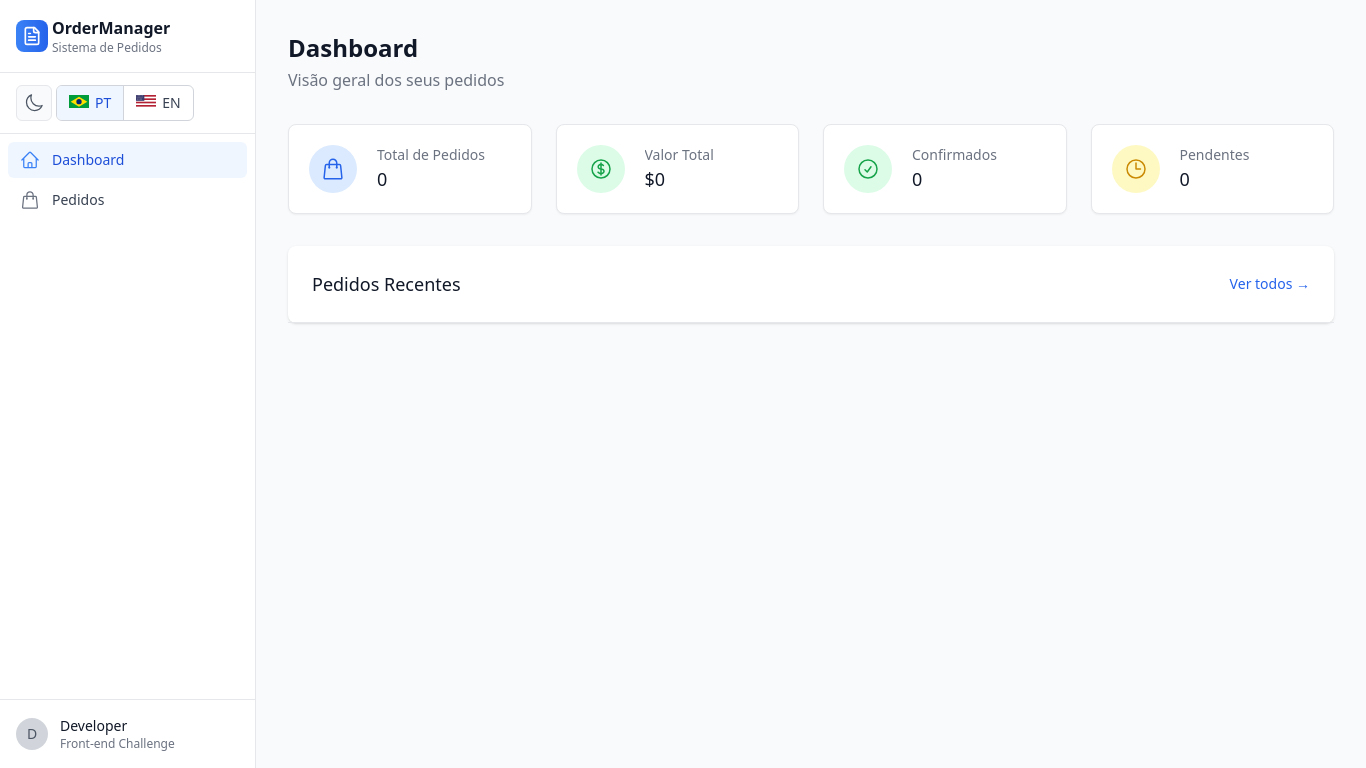
Scenario: Smoke E2E › carrega a home e navega para Pedidos
expect the heading "OrderManager" is shown: met, box [52,16,170,40]
Click the link "Ver todos →" at (1270, 284), box [1230,274,1310,294]
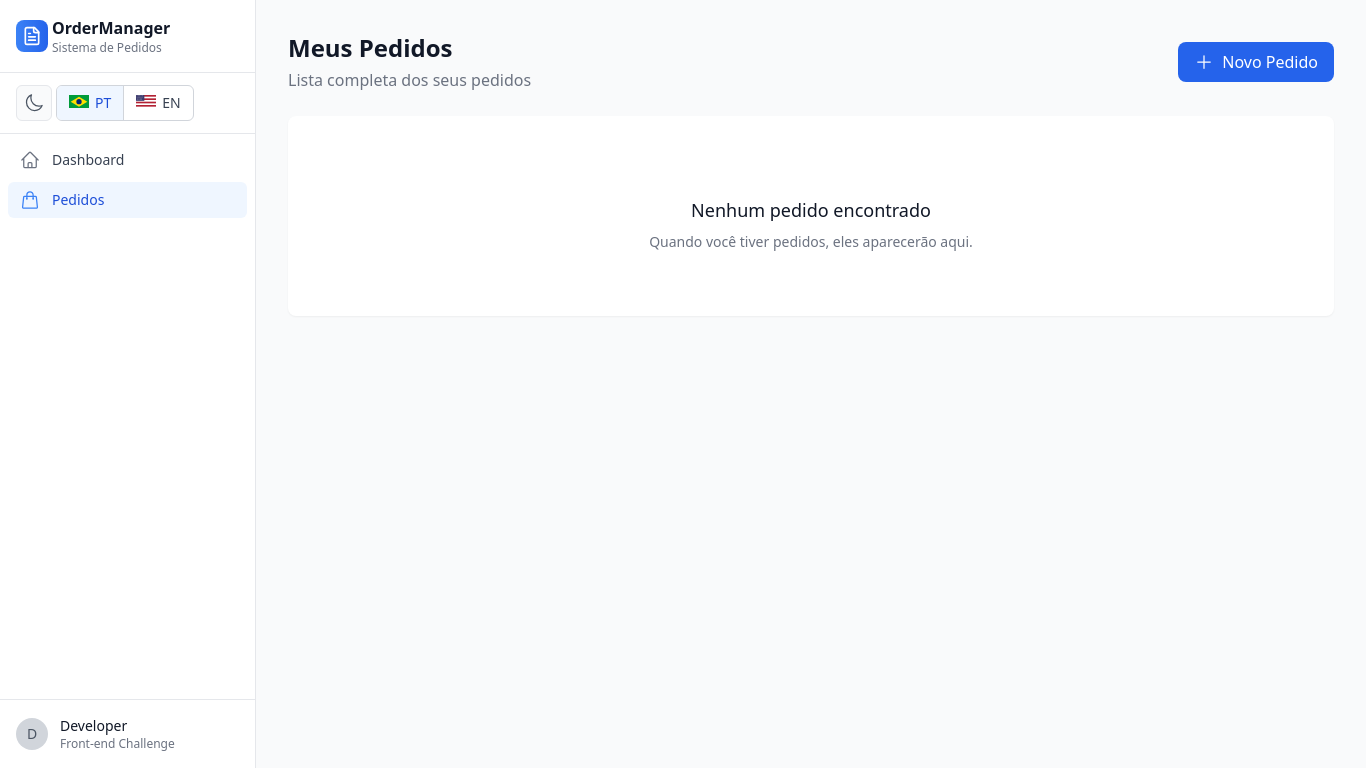
expect the heading "Meus Pedidos" is shown: met, box [288,31,452,64]
